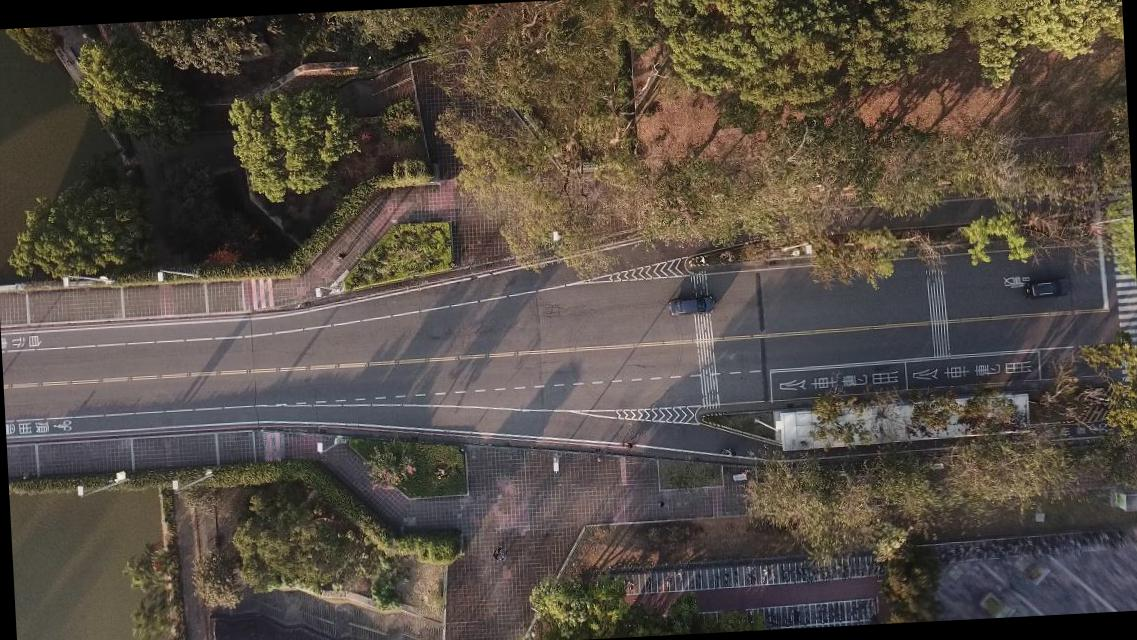vehicle: (1022, 277, 1070, 299), (668, 296, 714, 314)
